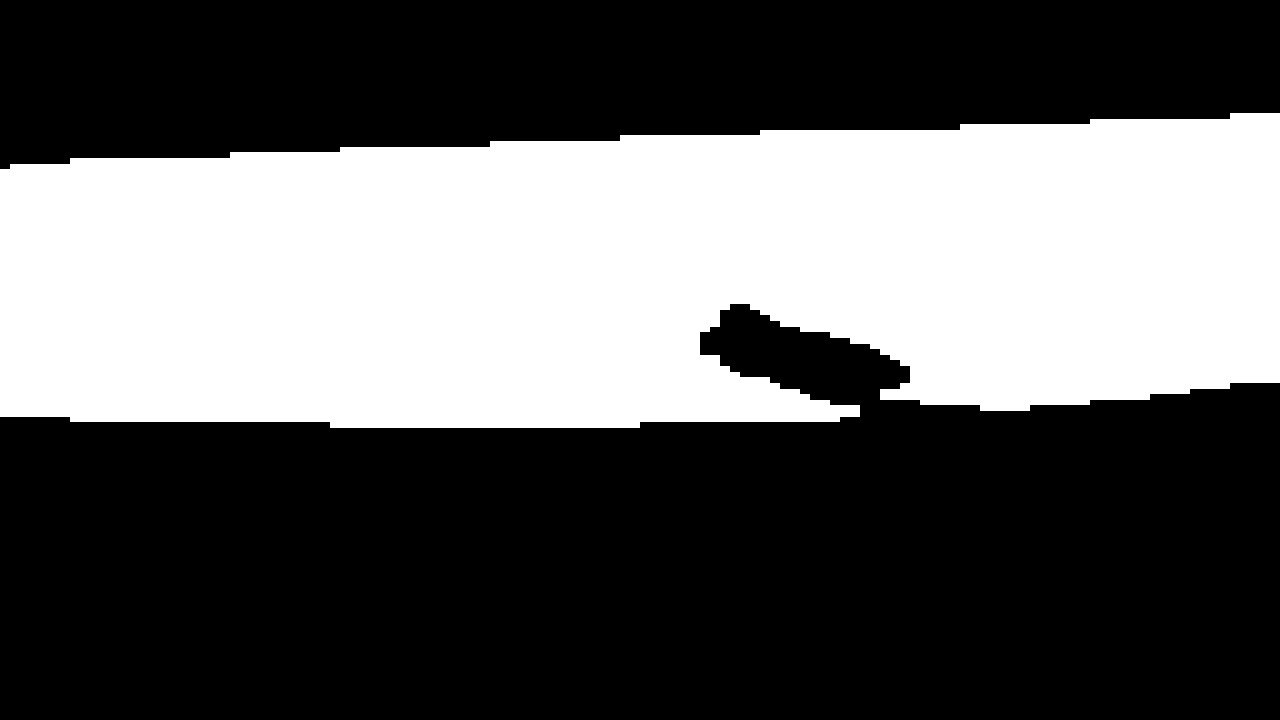Turbine: (11, 94, 1257, 435)
